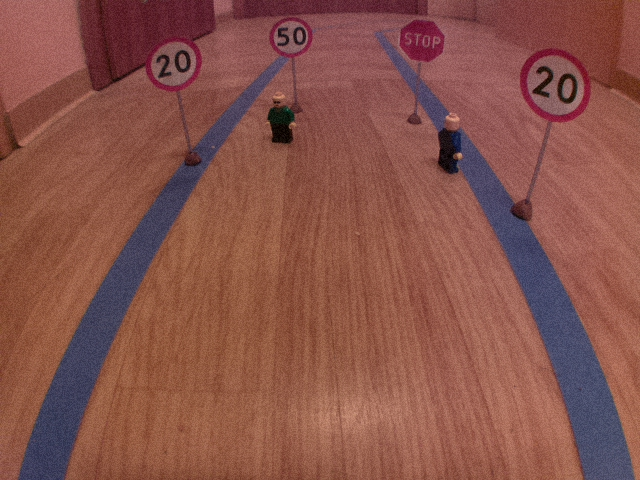LEGO_person: (429, 108, 468, 175), (261, 89, 300, 147)
ogr_20: (515, 46, 594, 127), (144, 34, 204, 95)
ogr_50: (268, 16, 316, 61)
stop: (395, 14, 449, 68)
